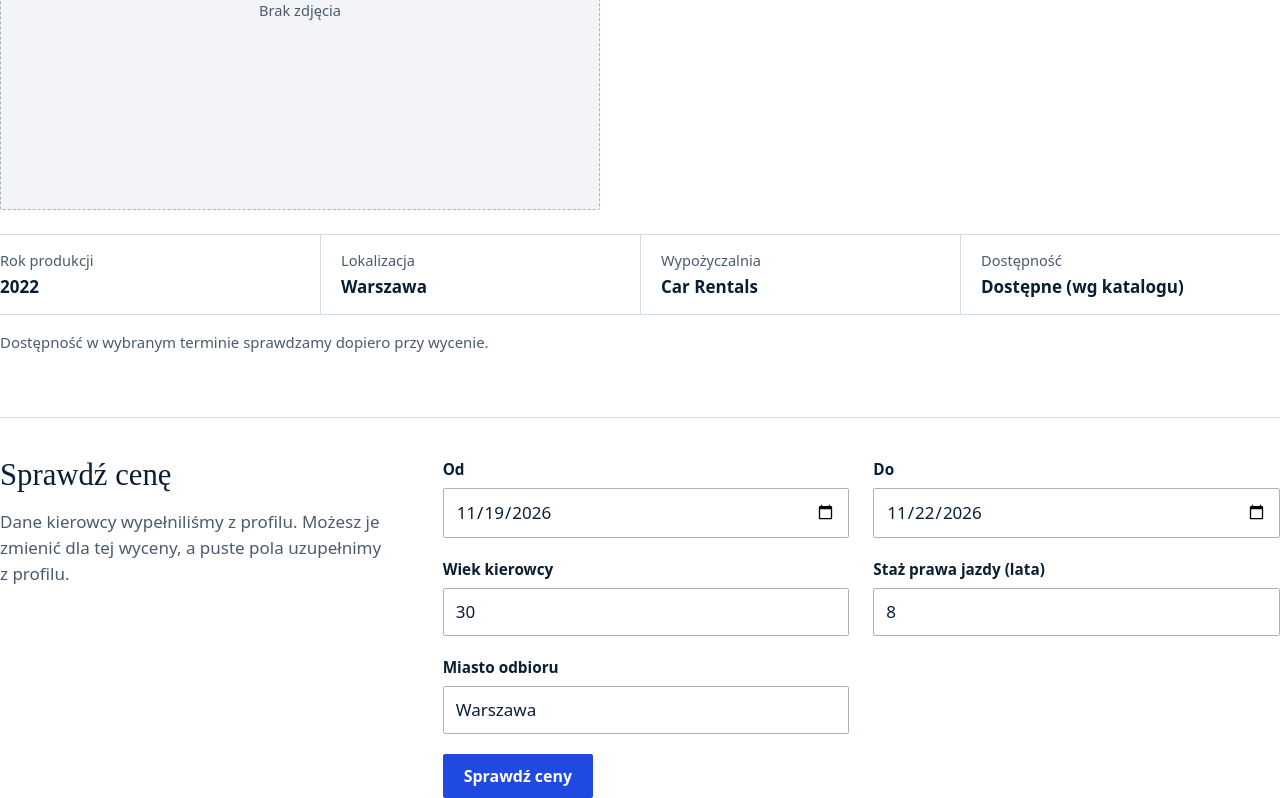
Test case: Wynajem z oferty › nie wysyła wniosku bez emaila
(page scrolled)
Click the button "Sprawdź ceny".
click(518, 776)  # box [443,754,593,797]
(page scrolled)
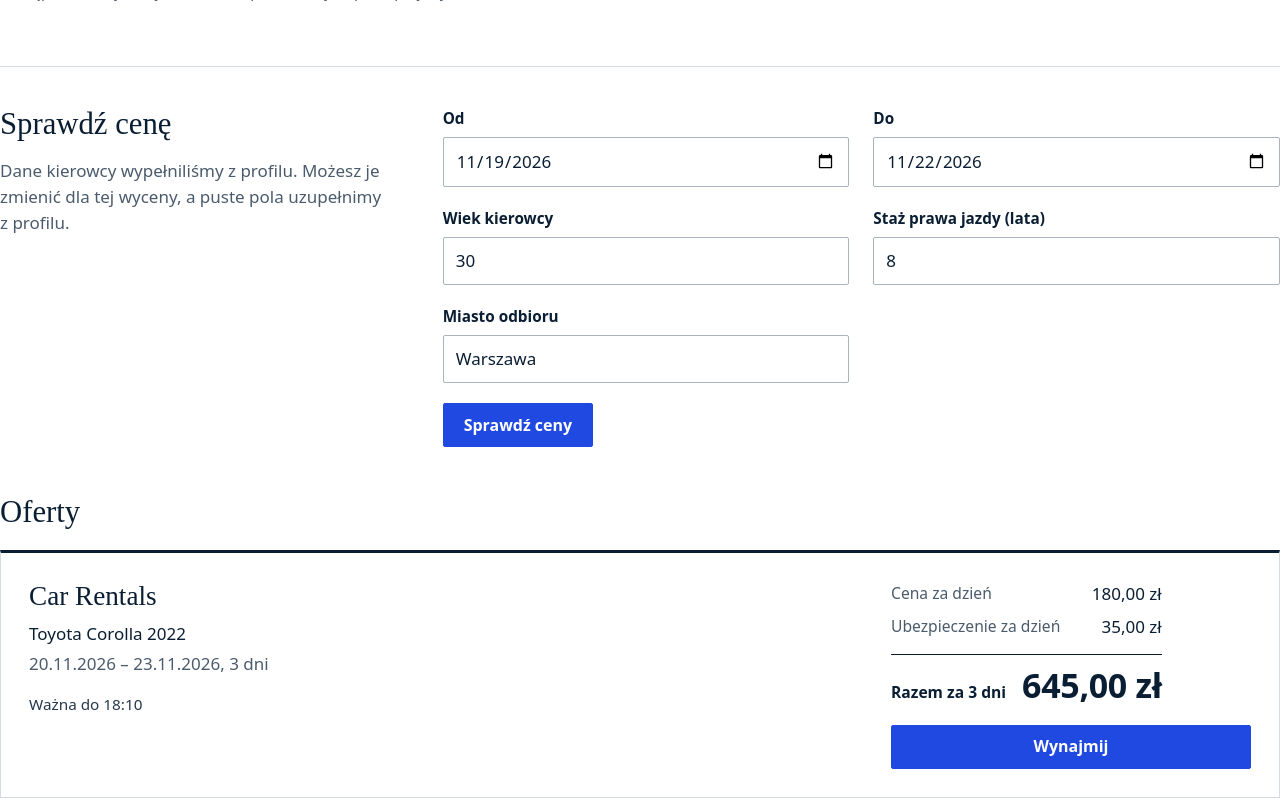
Click the button with aria-label "Wynajmij: Car Rentals".
click(1071, 746)  # box [891,724,1251,768]
(page scrolled)
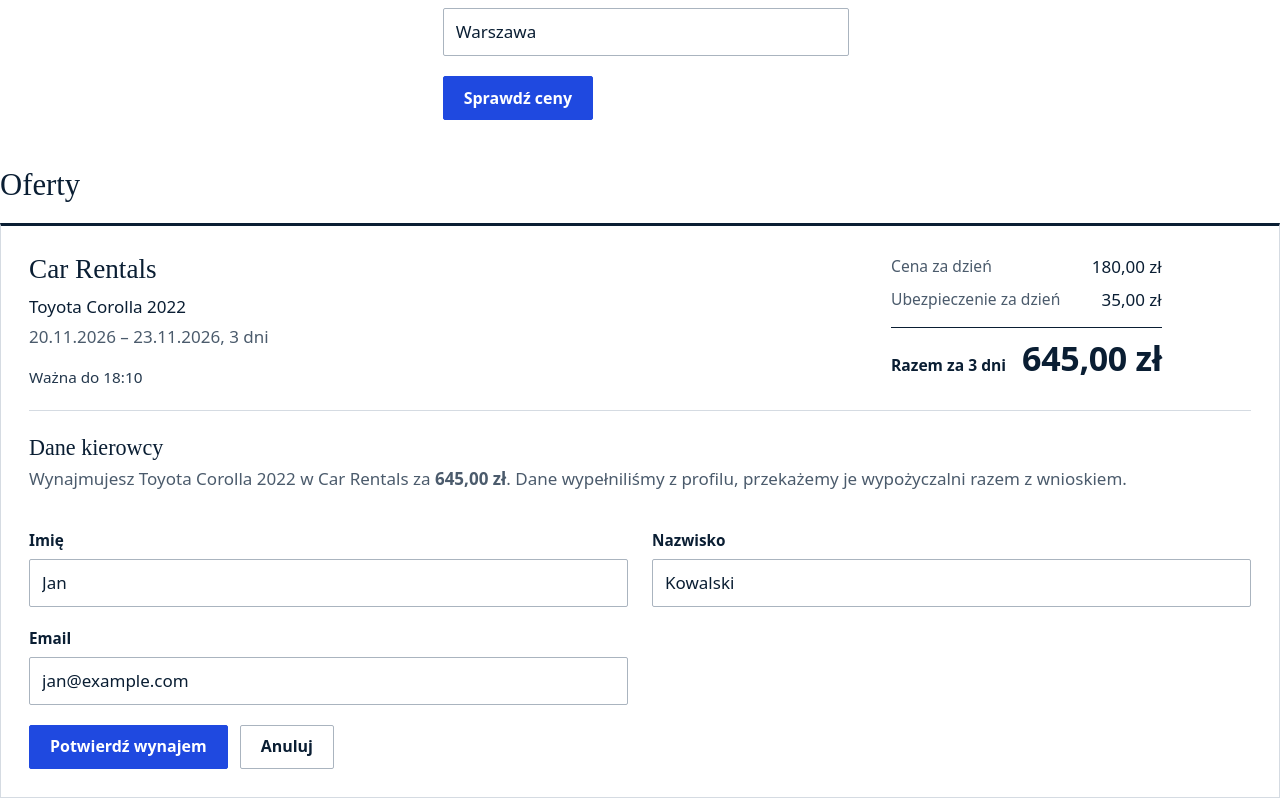
Clear the field labelled "Email" at (328, 681), box [29,657,628,705]
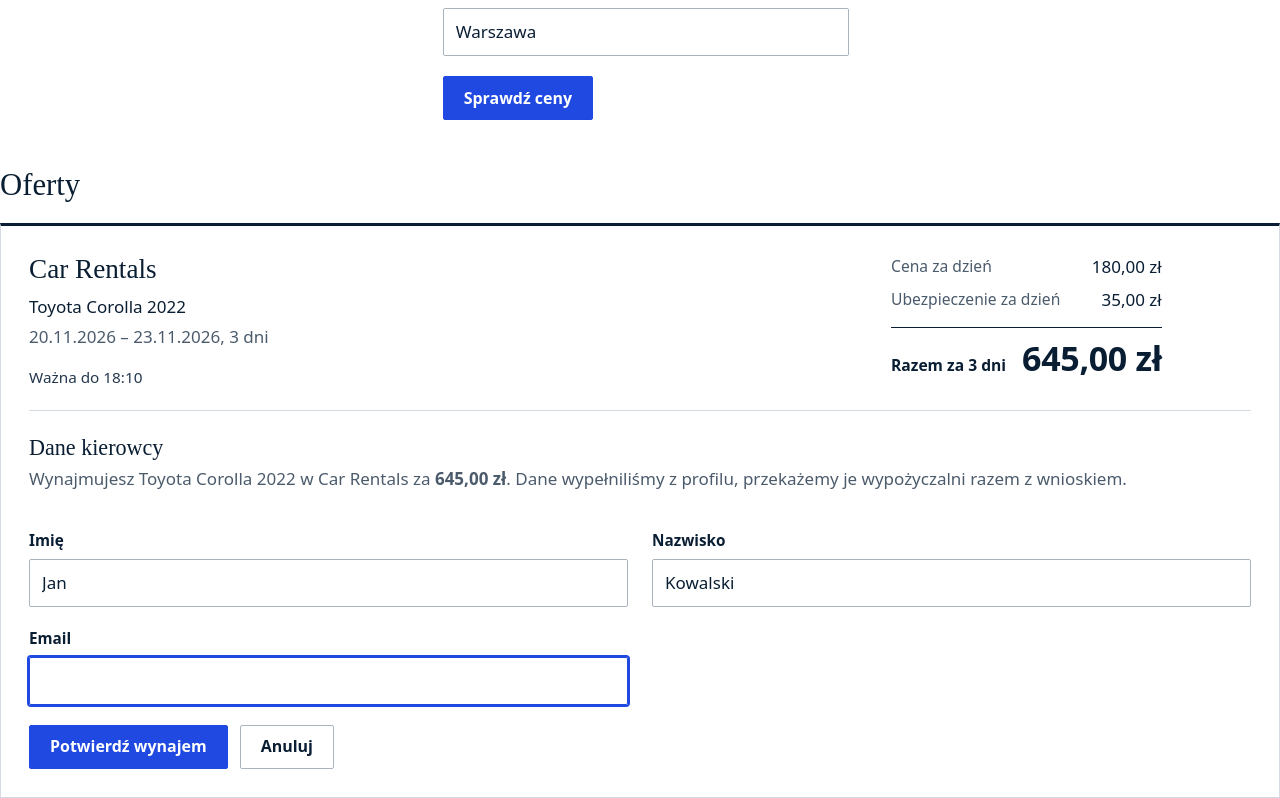
Click the button "Potwierdź wynajem".
click(128, 747)  # box [29,725,228,769]
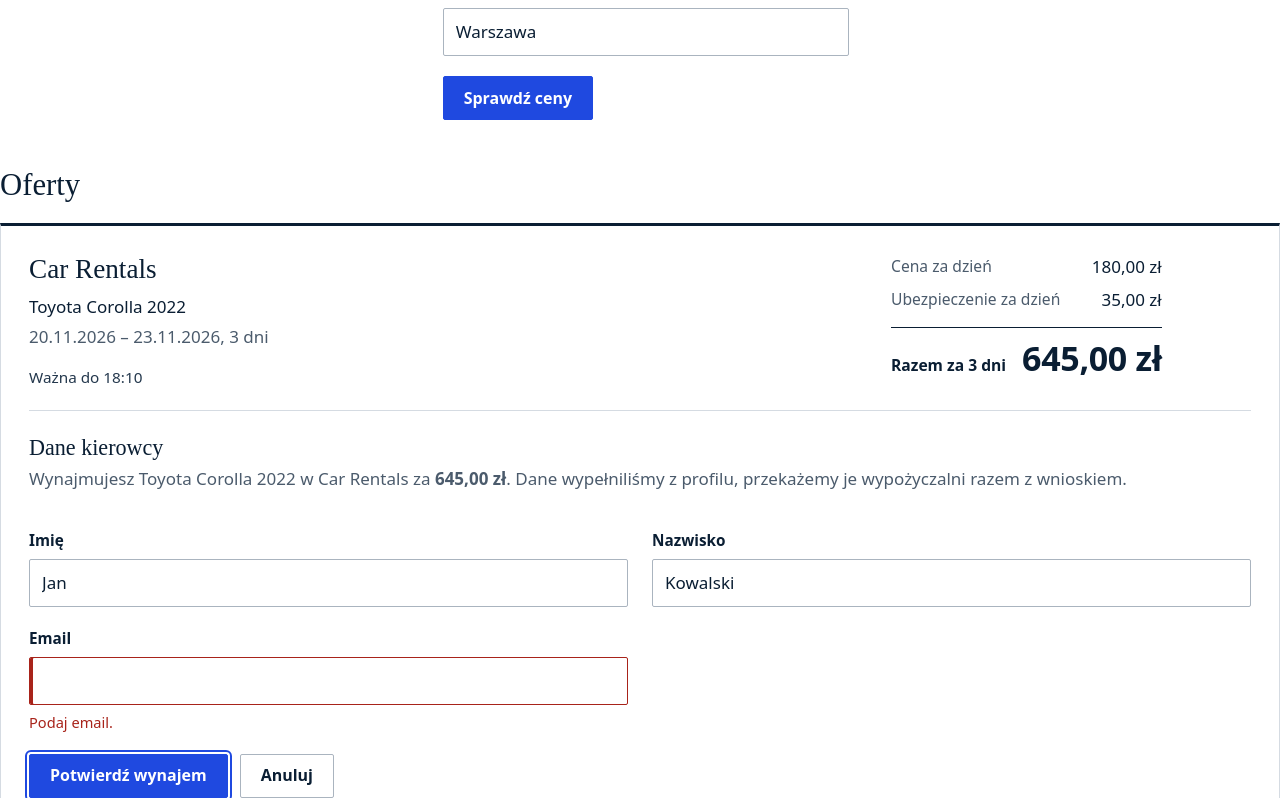
Expected: the text "Podaj email." is shown, [29,712,113,732]
